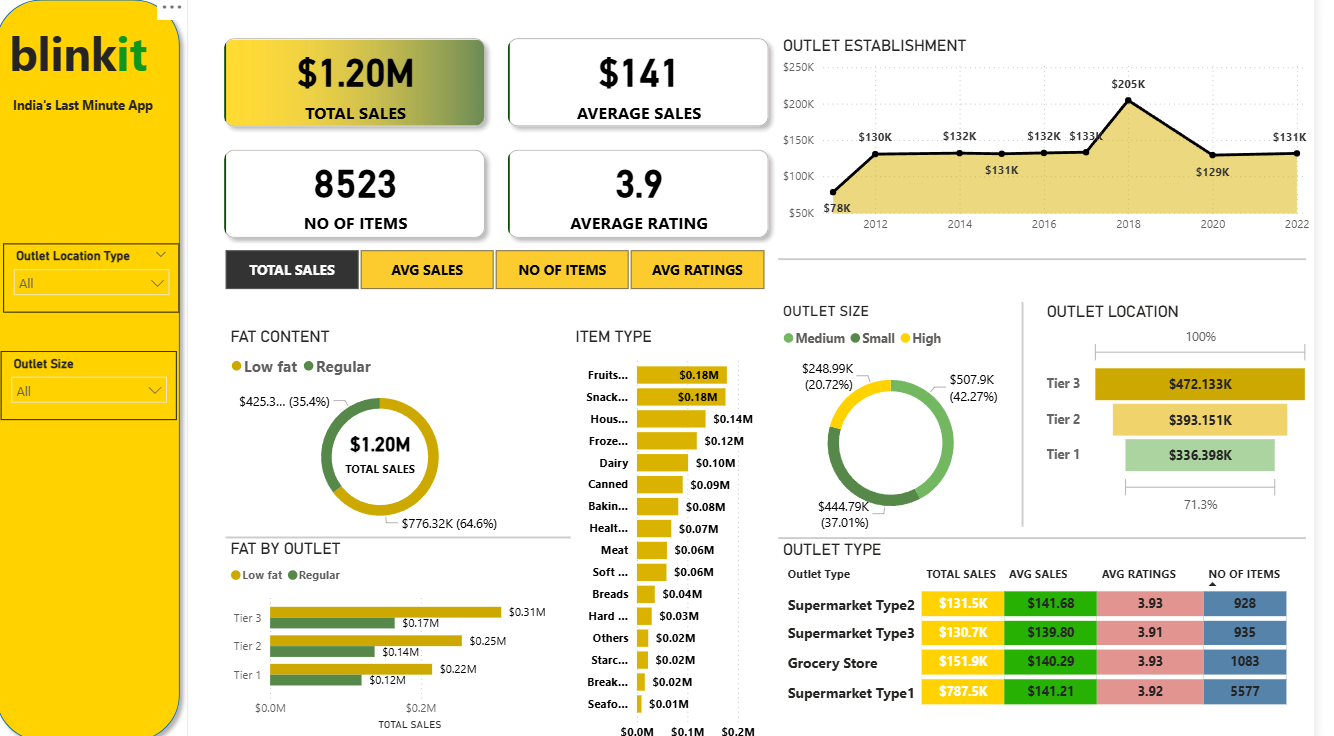

Layout of this report page (visuals, bound fields, positions):
{"tool":"powerbi","page":{"name":"Page 1","canvas":[1400,800],"ordinal":0},"visuals":[{"type":"shape","box":[0,0,212.4,800],"z":0},{"type":"textbox","box":[19.1,28,166.6,78.9],"z":1000},{"type":"textbox","box":[0,106.8,202.2,66.1],"z":2000},{"type":"cardVisual","fields":{"Data":["Sum(BlinkIT Grocery Data.Sales)","Avg(BlinkIT Grocery Data.Sales)","CountNonNull(BlinkIT Grocery Data.Item Identifier)","Avg(BlinkIT Grocery Data.Rating)"]},"box":[234,33.1,609.2,244.2],"z":3000},{"type":"donutChart","title":" FAT CONTENT ","fields":{"Y":["BlinkIT Grocery Data.TOTAL SALES"],"Category":["BlinkIT Grocery Data.Item Fat Content"]},"box":[251.8,354.8,325.6,222.6],"z":4000},{"type":"slicer","fields":{"Values":["Metric.Metric"]},"box":[225.1,265.8,618.1,54.7],"z":5000},{"type":"clusteredBarChart","title":"FAT BY OUTLET","fields":{"Y":["BlinkIT Grocery Data.TOTAL SALES"],"Category":["BlinkIT Grocery Data.Outlet Location Type"],"Series":["BlinkIT Grocery Data.Item Fat Content"]},"box":[251.8,577.4,363.7,207.3],"z":6000},{"type":"card","fields":{"Values":["BlinkIT Grocery Data.TOTAL SALES"]},"box":[333.2,445.1,162.8,80.1],"z":7000},{"type":"shape","box":[251.8,564.7,363.7,24.2],"z":8000},{"type":"barChart","title":"ITEM TYPE","fields":{"Y":["BlinkIT Grocery Data.TOTAL SALES"],"Category":["BlinkIT Grocery Data.Item Type"]},"box":[615.6,354.8,227.7,445.1],"z":9000},{"type":"lineChart","title":" OUTLET ESTABLISHMENT","fields":{"Y":["BlinkIT Grocery Data.TOTAL SALES"],"Category":["BlinkIT Grocery Data.Outlet Establishment Year"]},"box":[834.9,47,565.2,216.5],"z":10000},{"type":"donutChart","title":"OUTLET SIZE","fields":{"Y":["BlinkIT Grocery Data.TOTAL SALES"],"Category":["BlinkIT Grocery Data.Outlet Size"]},"box":[834.9,327.8,237.5,249.8],"z":11000},{"type":"shape","box":[834.3,265.8,557.1,33.1],"z":12000},{"type":"funnel","title":" OUTLET LOCATION ","fields":{"Y":["Sum(BlinkIT Grocery Data.Sales)"],"Category":["BlinkIT Grocery Data.Outlet Location Type"]},"box":[1112.8,328.1,287.4,228.9],"z":13000},{"type":"shape","box":[928.4,328.1,328.1,236.6],"z":14000},{"type":"shape","box":[834.9,560.3,556.6,33.4],"z":15000},{"type":"pivotTable","title":"OUTLET TYPE","fields":{"Rows":["BlinkIT Grocery Data.Outlet Type"],"Values":["BlinkIT Grocery Data.TOTAL SALES","BlinkIT Grocery Data.AVG SALES","BlinkIT Grocery Data.AVG RATINGS","BlinkIT Grocery Data.NO OF ITEMS"]},"box":[834.9,578.9,565.2,221.4],"z":16000},{"type":"actionButton","box":[0,0,100,40],"z":17000},{"type":"slicer","fields":{"Values":["BlinkIT Grocery Data.Outlet Location Type"]},"box":[16.5,265.8,185.7,72.5],"z":18000},{"type":"slicer","fields":{"Values":["BlinkIT Grocery Data.Outlet Size"]},"box":[14,380.3,185.7,72.5],"z":19000}]}

Visuals, with their boxes on the page's 1400x800 design canvas (x1, y1, x2, y2). These are canvas units, not pixel positions in the 1334x736 screenshot, which may show the page scaled, cropped or inside an application window:
shape: BBox(0, 0, 212, 800)
textbox: BBox(19, 28, 186, 107)
textbox: BBox(0, 107, 202, 173)
cardVisual - Sum(BlinkIT Grocery Data.Sales) x Avg(BlinkIT Grocery Data.Sales): BBox(234, 33, 843, 277)
" FAT CONTENT " donutChart: BBox(252, 355, 577, 577)
slicer - Metric.Metric: BBox(225, 266, 843, 320)
"FAT BY OUTLET" clusteredBarChart: BBox(252, 577, 616, 785)
card - BlinkIT Grocery Data.TOTAL SALES: BBox(333, 445, 496, 525)
shape: BBox(252, 565, 616, 589)
"ITEM TYPE" barChart: BBox(616, 355, 843, 800)
" OUTLET ESTABLISHMENT" lineChart: BBox(835, 47, 1400, 264)
"OUTLET SIZE" donutChart: BBox(835, 328, 1072, 578)
shape: BBox(834, 266, 1391, 299)
" OUTLET LOCATION " funnel: BBox(1113, 328, 1400, 557)
shape: BBox(928, 328, 1256, 565)
shape: BBox(835, 560, 1392, 594)
"OUTLET TYPE" pivotTable: BBox(835, 579, 1400, 800)
actionButton: BBox(0, 0, 100, 40)
slicer - BlinkIT Grocery Data.Outlet Location Type: BBox(16, 266, 202, 338)
slicer - BlinkIT Grocery Data.Outlet Size: BBox(14, 380, 200, 453)
